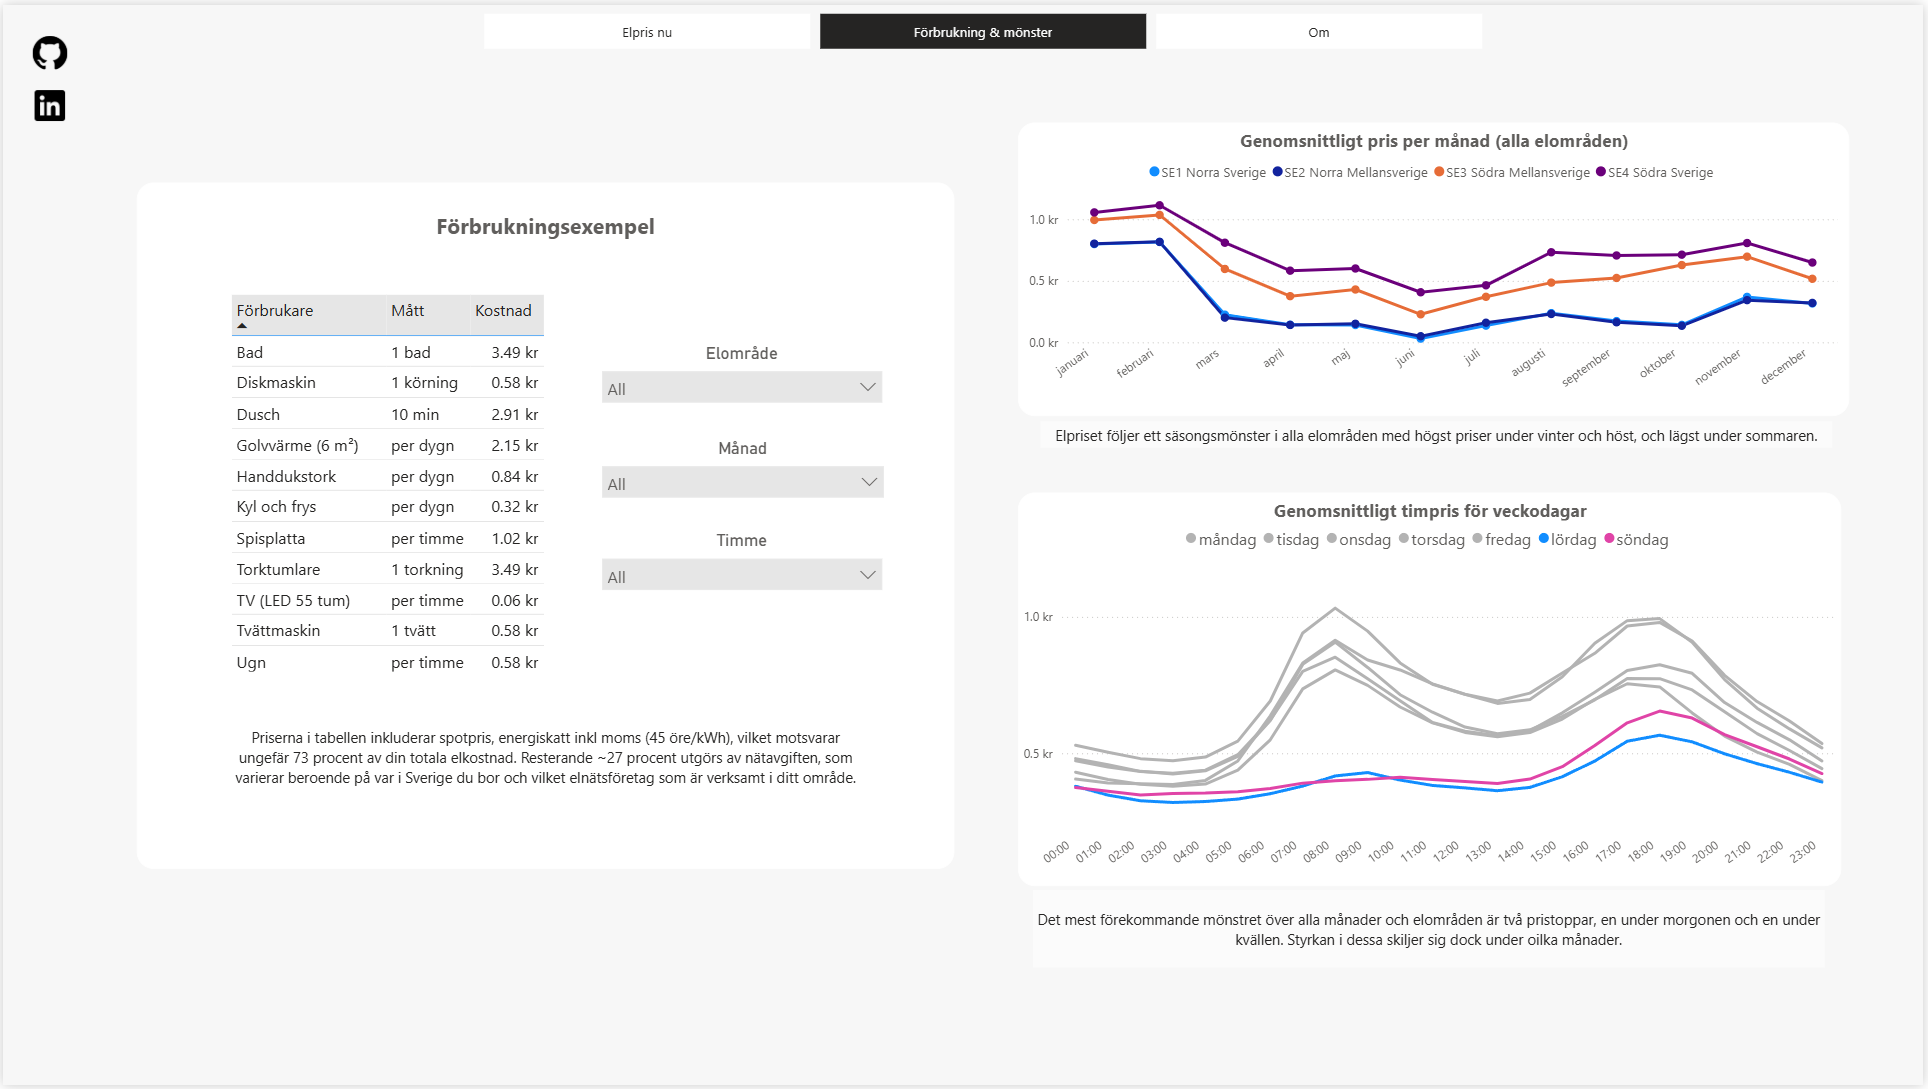

What the dashboard file says about the page in this screenshot:
{"tool":"powerbi","page":{"name":"Förbrukning & mönster","canvas":[1920,1080],"ordinal":1},"visuals":[{"type":"shape","box":[0,0,1920,1080],"z":0},{"type":"shape","box":[133.7,177.5,817.5,686.2],"z":1000},{"type":"image","title":"github lightmode","box":[24.9,25.8,44.4,43.2],"z":3000},{"type":"image","title":"in lightmode","box":[21.6,75.1,51.5,51],"z":4000},{"type":"lineChart","title":"Genomsnittligt pris per månad (alla elområden)","fields":{"Y":["Avg(fact_prices.sek_per_kwh)"],"Category":["dim_date.month_name"],"Series":["dim_zone.zone_name_full"]},"box":[1014.5,117.5,831.3,293.4],"z":5000},{"type":"lineChart","title":"Genomsnittligt timpris för veckodagar","fields":{"Category":["dim_time.hour_label"],"Series":["dim_date.day_name"],"Y":["Avg(fact_prices.sek_per_kwh)"]},"box":[1015,487.5,823.3,393.8],"z":6000},{"type":"tableEx","fields":{"Values":["ref appliances.appliance_name","ref appliances.usage_label","appliances.appliances_cost"]},"box":[222.7,284.8,335,398.8],"z":7000},{"type":"slicer","title":"Timme","fields":{"Values":["dim_time.hour_label"]},"box":[589.3,524.7,300,107.1],"z":8000},{"type":"slicer","title":"Elområde","fields":{"Values":["dim_zone.zone_name_full"]},"box":[589.4,337.3,300,69.3],"z":9000},{"type":"pageNavigator","box":[481.4,8.6,1000,35.7],"z":10000},{"type":"actionButton","box":[1029.5,885.3,791.6,78],"z":11000},{"type":"actionButton","box":[1036.9,415.9,791.6,26.4],"z":12000},{"type":"actionButton","box":[405,200,275,40],"z":13000},{"type":"actionButton","box":[225.6,684.6,632.9,132.9],"z":14000},{"type":"slicer","title":"Månad","fields":{"Values":["dim_date.month_name"]},"box":[588.8,432.1,301.6,88.5],"z":18000}]}

Visuals, with their boxes in screenshot pixels (x1, y1, x2, y2), scaled from the page's 1920x1080 canvas onto the 1928x1089 screenshot:
shape: [left=0, top=0, right=1927, bottom=1088]
shape: [left=134, top=179, right=955, bottom=871]
"github lightmode" image: [left=25, top=26, right=70, bottom=70]
"in lightmode" image: [left=22, top=76, right=73, bottom=127]
"Genomsnittligt pris per månad (alla elområden)" lineChart: [left=1019, top=118, right=1853, bottom=414]
"Genomsnittligt timpris för veckodagar" lineChart: [left=1019, top=492, right=1846, bottom=889]
tableEx - ref appliances.appliance_name x ref appliances.usage_label: [left=224, top=287, right=560, bottom=689]
"Timme" slicer: [left=592, top=529, right=893, bottom=637]
"Elområde" slicer: [left=592, top=340, right=893, bottom=410]
pageNavigator: [left=483, top=9, right=1488, bottom=45]
actionButton: [left=1034, top=893, right=1829, bottom=971]
actionButton: [left=1041, top=419, right=1836, bottom=446]
actionButton: [left=407, top=202, right=683, bottom=242]
actionButton: [left=227, top=690, right=862, bottom=824]
"Månad" slicer: [left=591, top=436, right=894, bottom=525]
